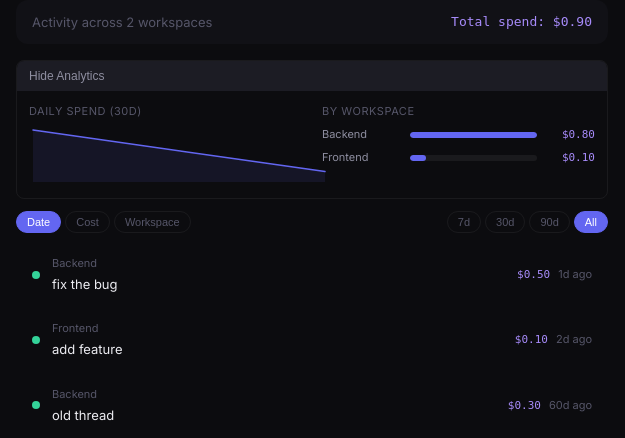
Test case: FeedView › date range filter 7d hides older threads
The image size is (625, 438).
Check: the text "fix the bug" is shown, box [52,276,118,292]
Click the button "7d" at [464, 222], box [447,211,481,233]
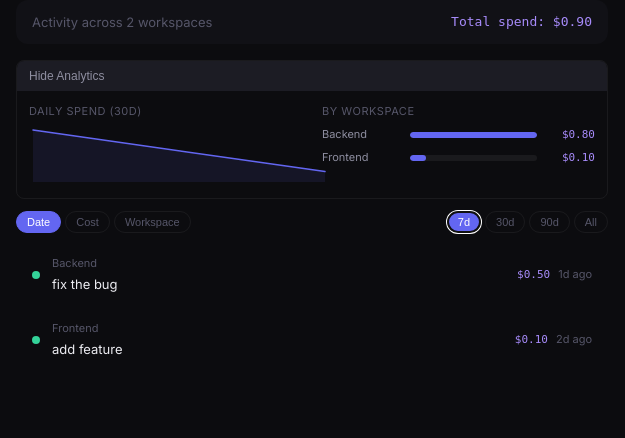
Check: the text "fix the bug" is shown, box [52,276,118,292]
Check: the text "old thread" is gone
